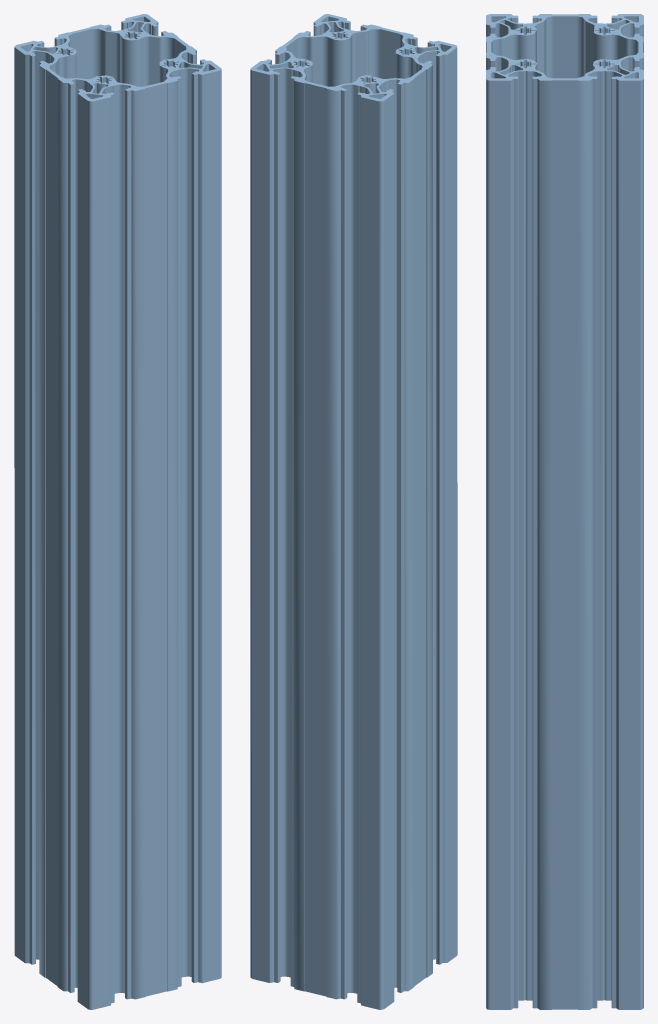
File: ST_EXT_005_0585.gltf
3 views of the same model, side by side, from view 1: azimuth 30°, elevation 25°; view 2: azimuth 150°, elevation 25°; view 3: azimuth 270°, elevation 25° (orthographic). The views are drawn at different scales.
Bounding box in the file's own units: 0.09 × 0.585 × 0.09.
